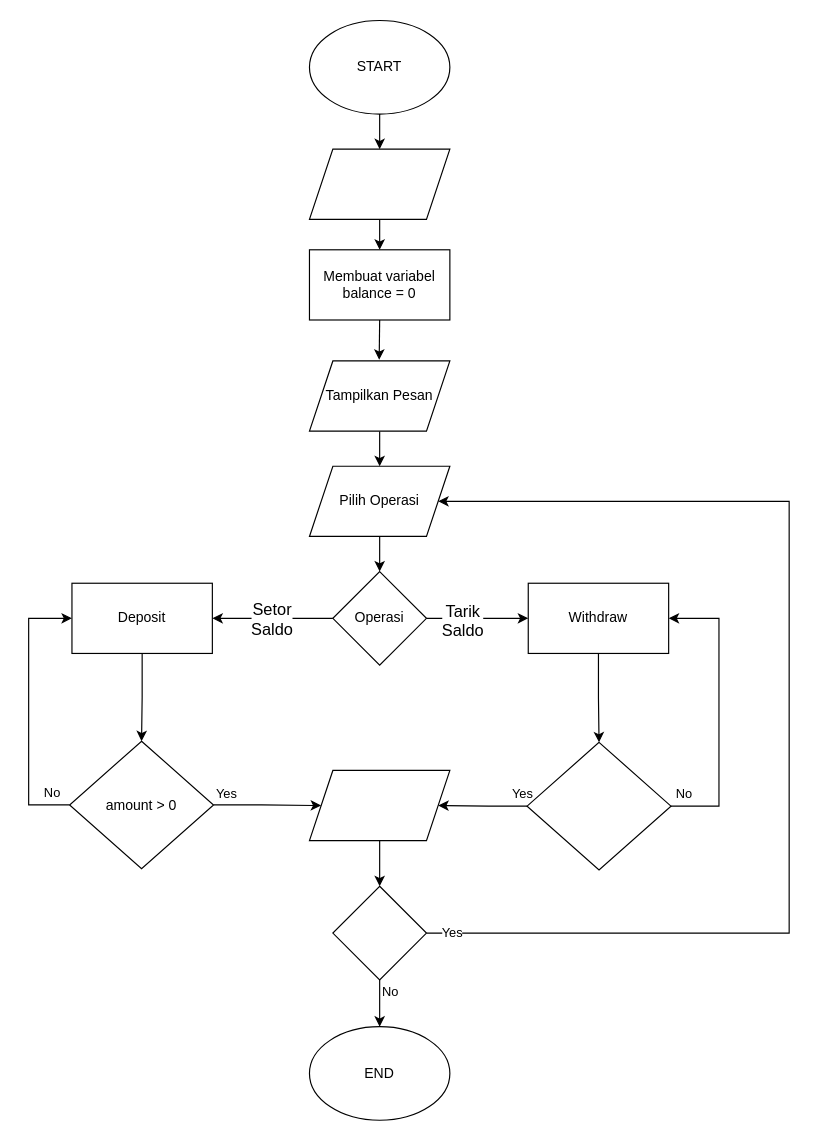
This 819x1141 diagram has some shape labels left out. The box of each missing label's shape, as (x1, y1, x2, y2) in pixels:
amount > 0 && amount <= balance: (526, 741, 671, 870)
Input Nama: (308, 148, 450, 219)
Tampilkan Saldo: (308, 769, 450, 841)
Ulangi?: (332, 885, 426, 980)
